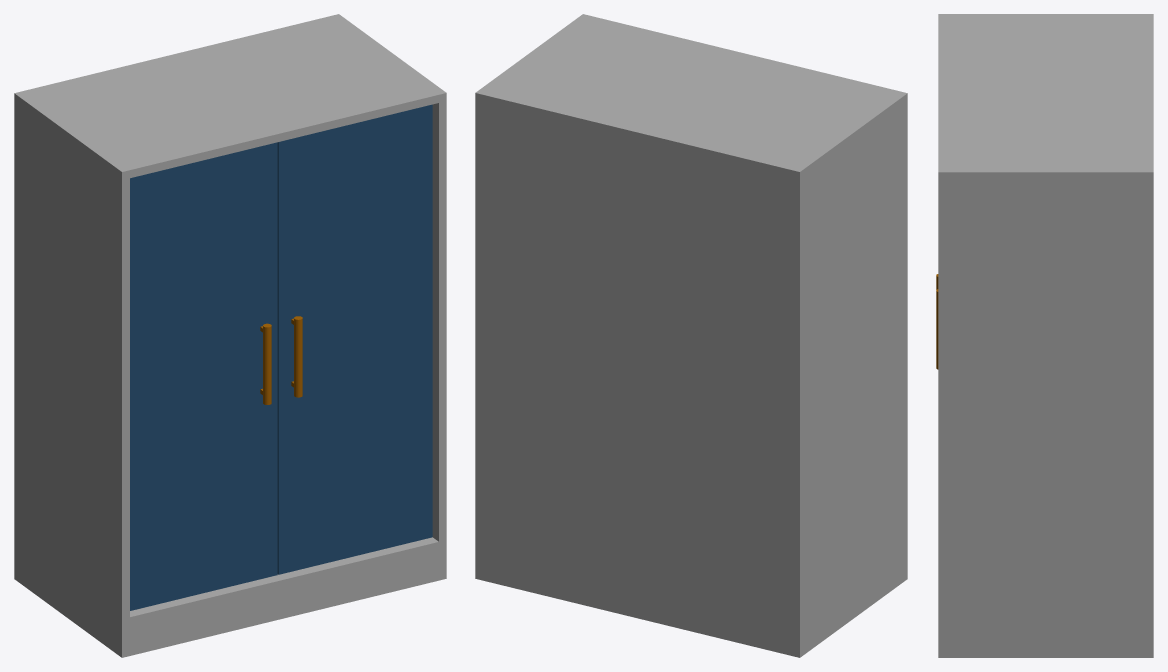
Rendered from Cabinet.fbx.
3 views of the same model, side by side, from view 1: azimuth 30°, elevation 25°; view 2: azimuth 150°, elevation 25°; view 3: azimuth 270°, elevation 25° (orthographic).
Visible parts, largest first — view 1: Cabinet; view 2: Cabinet; view 3: Cabinet.
Part boxes in pixels (x1,y1,x2,y2): Cabinet: [14, 14, 446, 657]; Cabinet: [475, 14, 907, 657]; Cabinet: [936, 14, 1153, 657].
Bounding box in the file's own units: 174 × 249 × 101.
